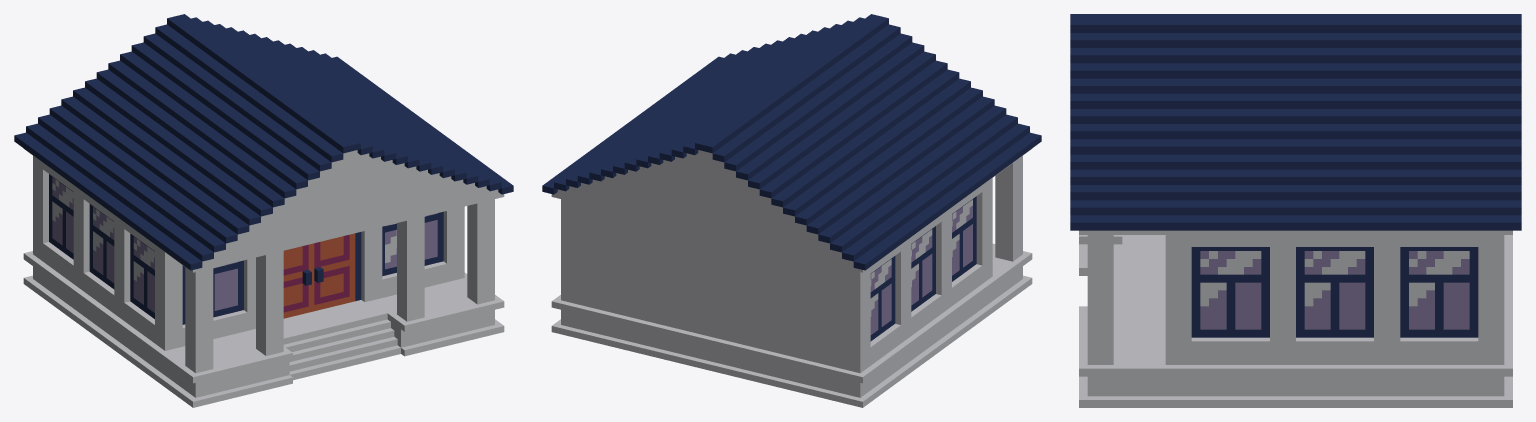
The model's file is museum_b.obj.
The picture shows the model from 3 angles, left to right: view 1: azimuth 30°, elevation 25°; view 2: azimuth 150°, elevation 25°; view 3: azimuth 270°, elevation 25°; orthographic projection. The views are drawn at different scales.
Size of the model in its own units: 5.5 by 3.7 by 5.2.
Materials: 1 (1 with a texture image).
